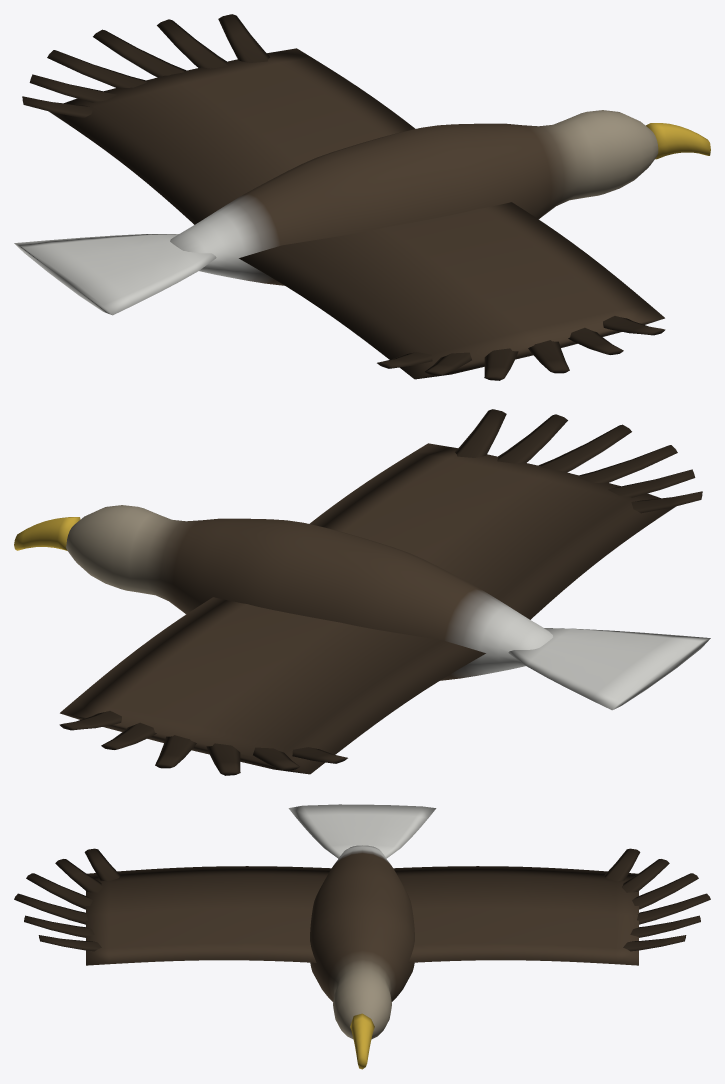
The model's file is tier_seeadler.glb.
3 renders of one model, top to bottom at view 1: azimuth 30°, elevation 25°; view 2: azimuth 150°, elevation 25°; view 3: azimuth 270°, elevation 25°, orthographic. The views are drawn at different scales.
Parts seen in each view (by area): view 1: Rumpf, InnenR, InnenL, AussenL, AussenR; view 2: Rumpf, InnenL, InnenR, AussenR, AussenL; view 3: InnenR, InnenL, Rumpf, AussenR, AussenL.
Boxes of the visible parts, x1,y1,x2,y2 form: Rumpf: (14, 110, 710, 315); InnenR: (239, 202, 664, 379); InnenL: (49, 48, 415, 224); AussenL: (22, 14, 269, 118); AussenR: (377, 316, 665, 380); Rumpf: (14, 505, 710, 710); InnenL: (60, 597, 485, 774); InnenR: (309, 443, 675, 619); AussenR: (455, 409, 702, 513); AussenL: (59, 711, 347, 775); InnenR: (86, 866, 331, 965); InnenL: (393, 866, 638, 965); Rumpf: (288, 804, 436, 1069); AussenR: (14, 848, 120, 951); AussenL: (604, 848, 710, 951).
Bounding box in the file's own units: 1.13 × 0.2248 × 1.41.
